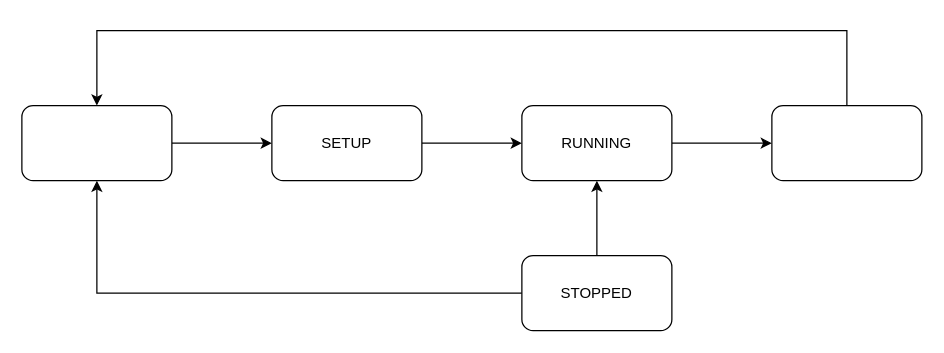
The diagram is 944 pixels wide and 353 high, and some of its shapes have lost their labels. Each missing label, with the centre of its shape:
"COMPLETED" goes at [846,142].
"INIT" goes at [96,142].
